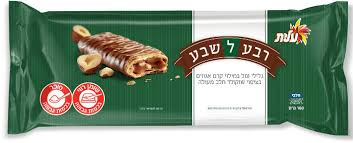Chocolate: (4, 1, 353, 142)
